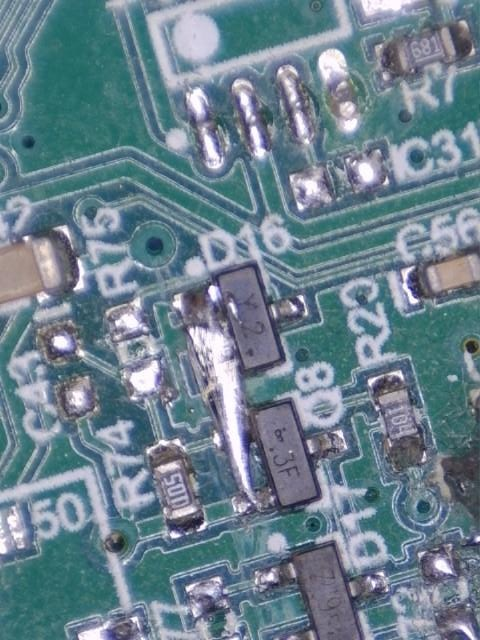pcb_defect: (181, 282, 263, 512)
